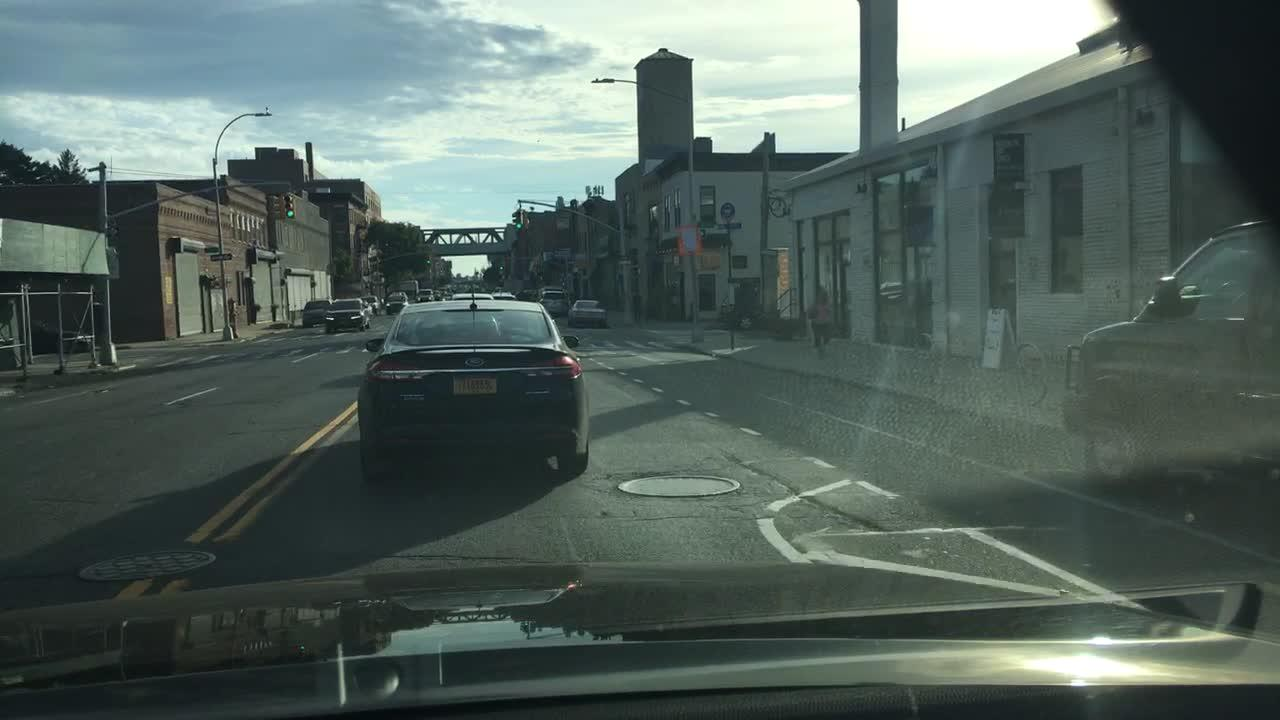ford: (460, 354, 489, 369)
